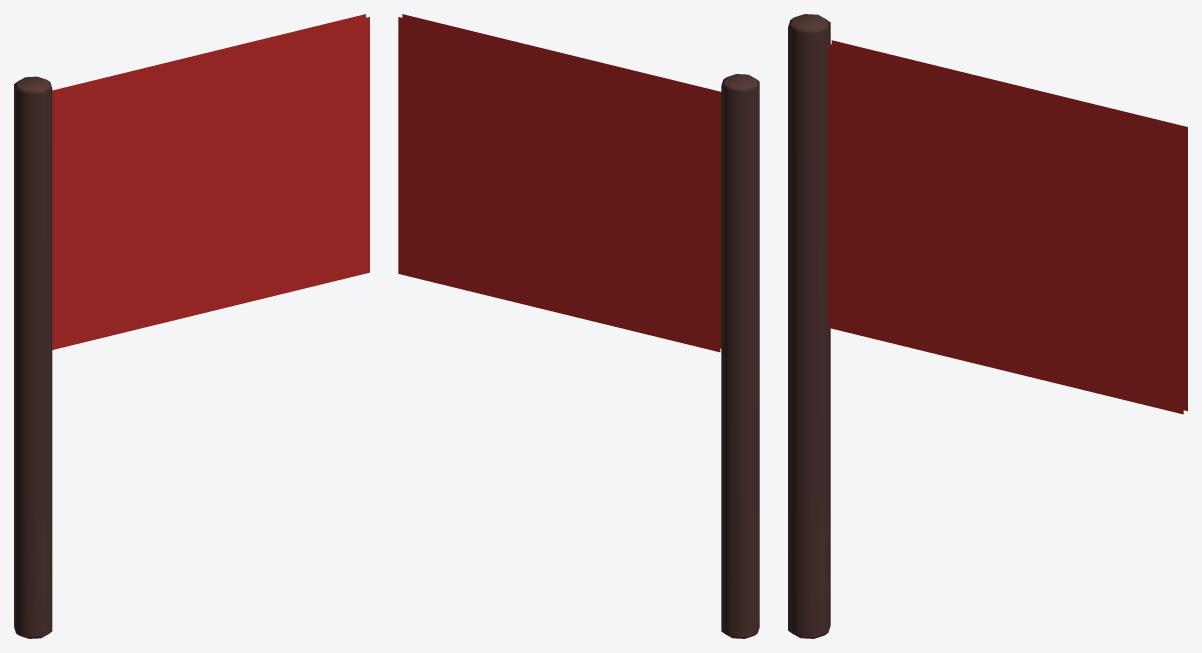
3 views of the same model, side by side, from view 1: azimuth 30°, elevation 25°; view 2: azimuth 150°, elevation 25°; view 3: azimuth 330°, elevation 25° (orthographic). The views are drawn at different scales.
Visible parts, largest first — view 1: Co; view 2: Co; view 3: Co.
Part boxes in pixels (box(x1,y1,x2,y2)): Co: box(14, 14, 369, 638); Co: box(398, 14, 759, 638); Co: box(788, 14, 1187, 638).
Size of the model in its own units: 149 by 222 by 14.51.
